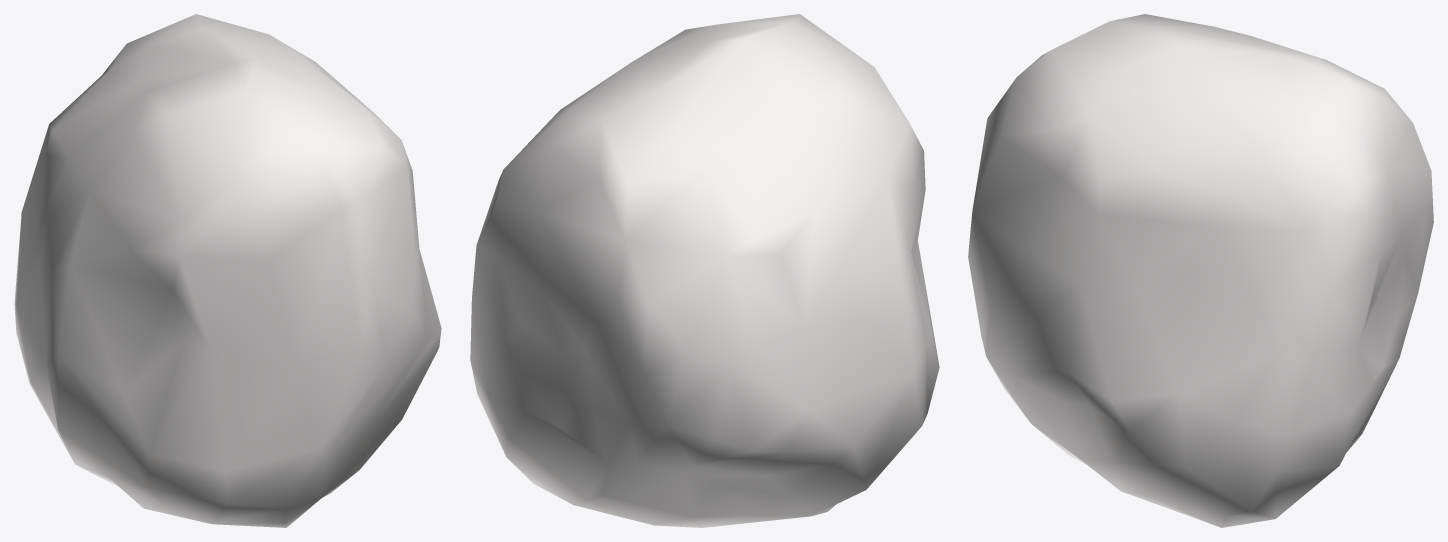
Rendered from Snow_002.glb.
3 views of the same model, side by side, from view 1: azimuth 30°, elevation 25°; view 2: azimuth 150°, elevation 25°; view 3: azimuth 270°, elevation 25° (orthographic). The views are drawn at different scales.
Parts seen in each view (by area): view 1: Snow_002; view 2: Snow_002; view 3: Snow_002.
Boxes of the visible parts, x1,y1,x2,y2 form: Snow_002: (14,14,441,527); Snow_002: (470,14,939,527); Snow_002: (968,14,1433,527).
Size of the model in its own units: 1.09 by 1.27 by 1.16.
Materials: 1 (1 with a texture image).
